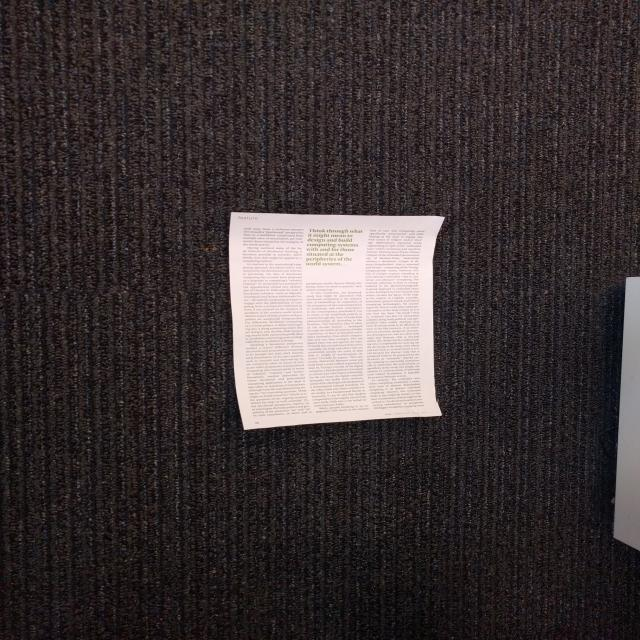document: (228, 212, 443, 429)
